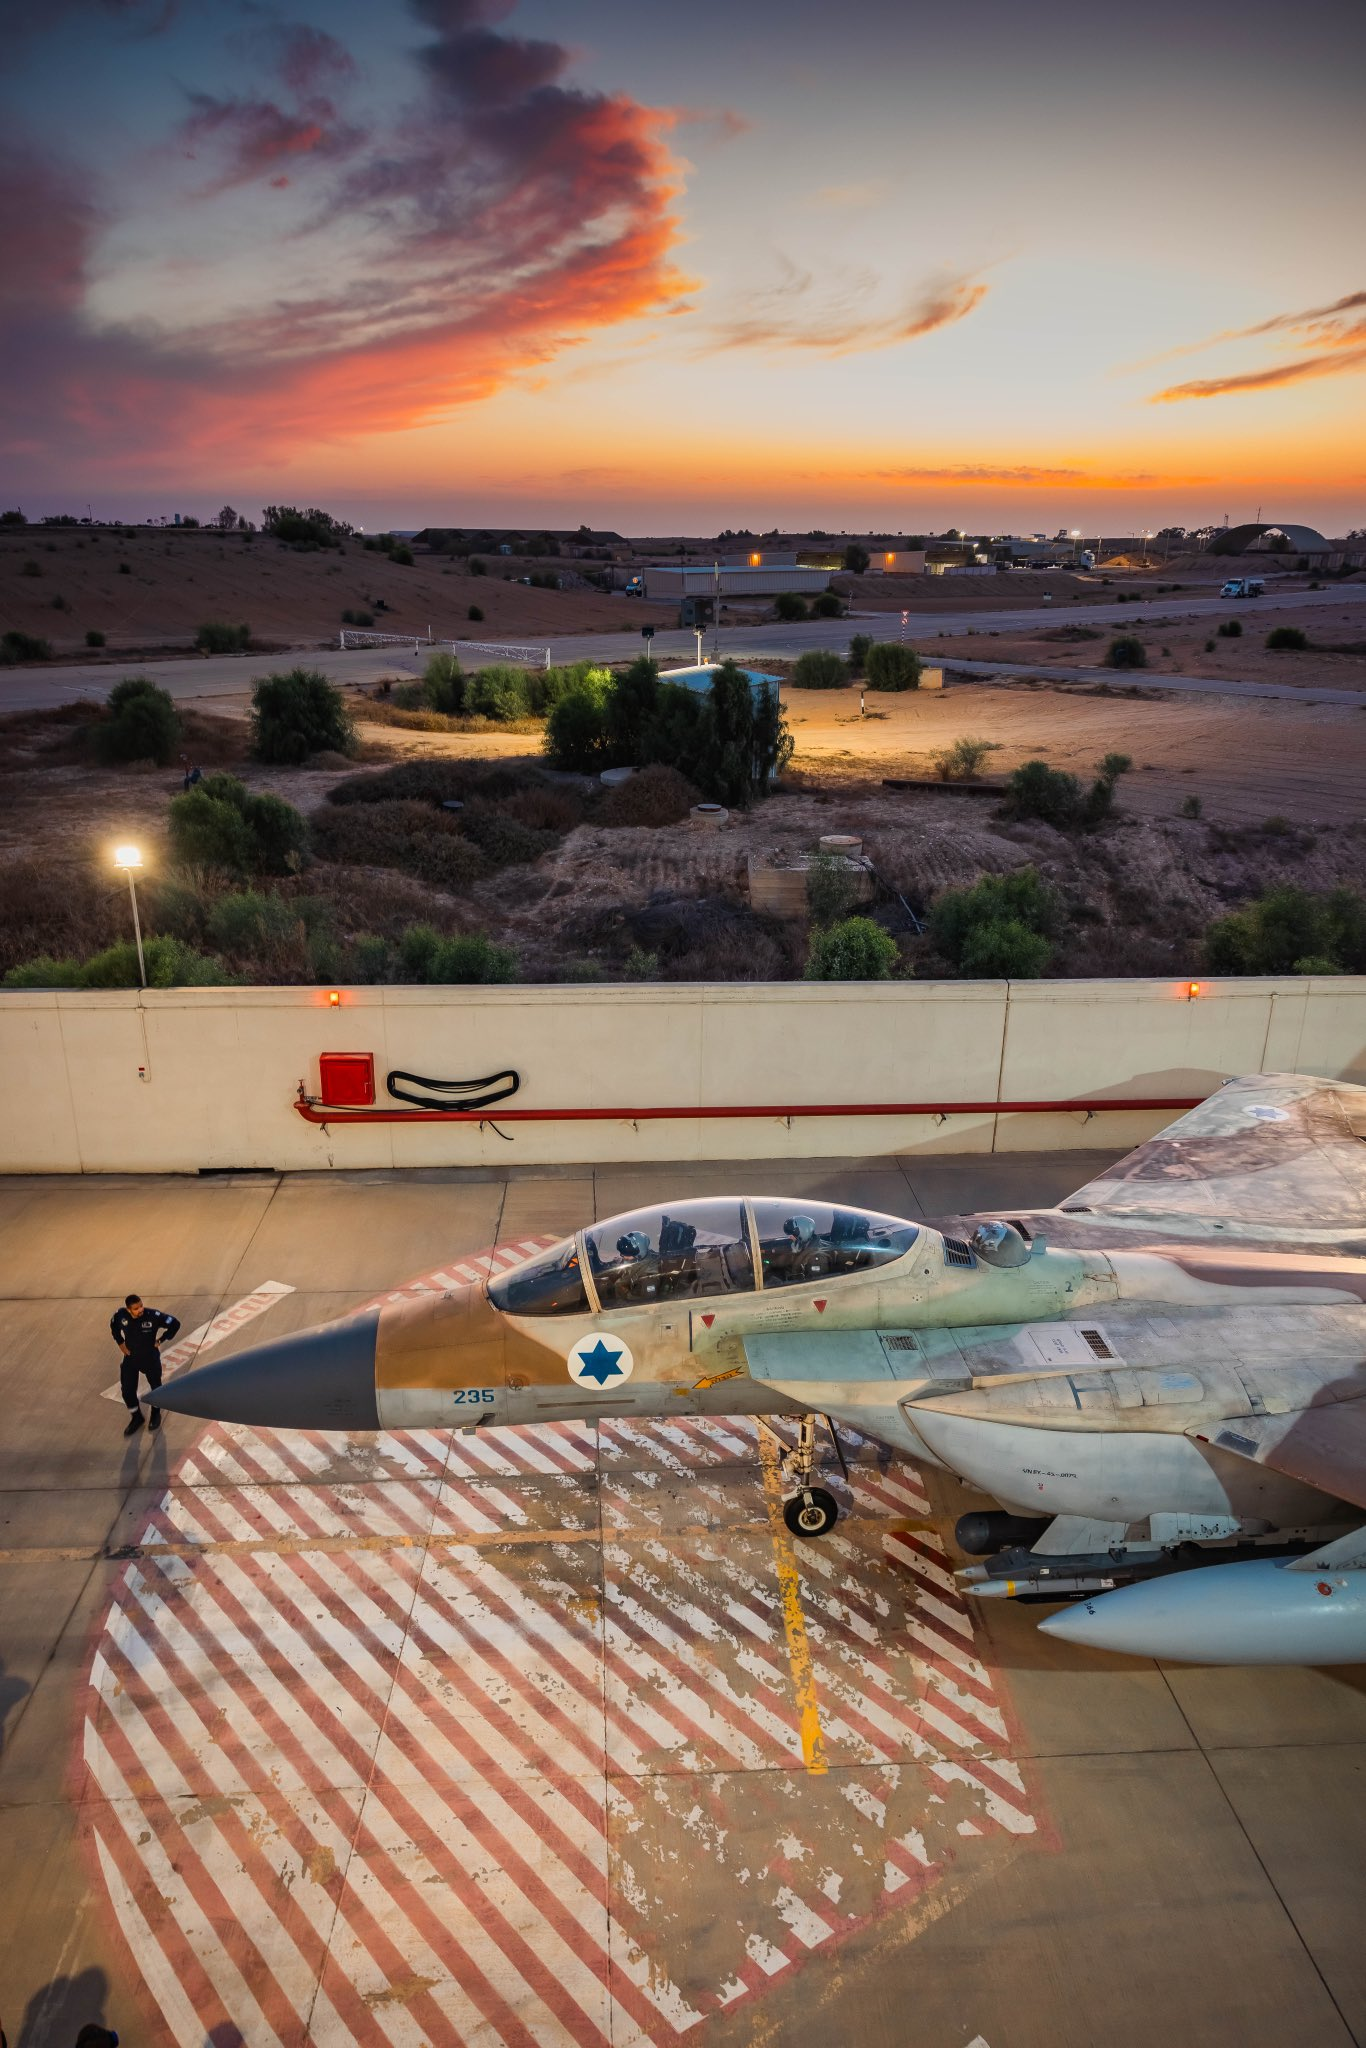airplane: (139, 1073, 1366, 1667)
